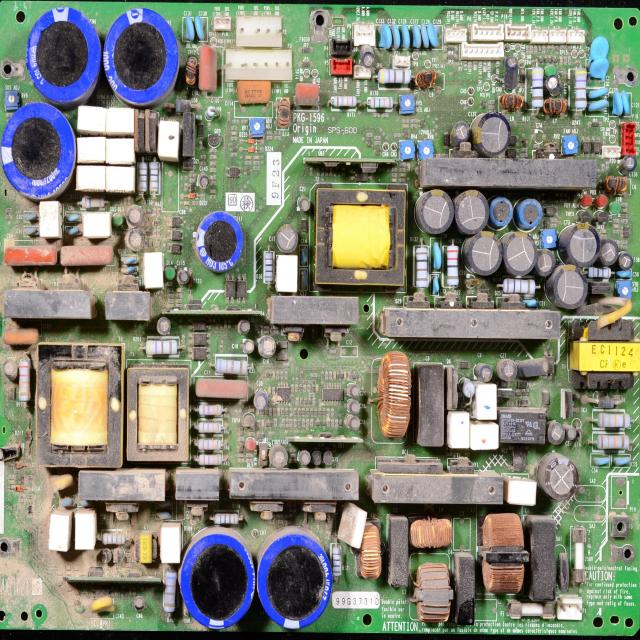Capacitor Jumper: (543, 453, 578, 504), (453, 188, 489, 235), (468, 230, 501, 276), (416, 192, 454, 231), (473, 116, 508, 158), (5, 245, 59, 272), (502, 234, 536, 274), (564, 224, 596, 266), (60, 244, 116, 268), (555, 264, 587, 305), (198, 44, 222, 98), (236, 79, 271, 112), (2, 328, 37, 350), (599, 239, 622, 270), (292, 83, 320, 108), (522, 356, 549, 378), (534, 248, 555, 276), (125, 226, 147, 252), (276, 226, 297, 253), (588, 56, 609, 80), (49, 472, 72, 493), (505, 57, 521, 86), (549, 420, 566, 447), (91, 597, 116, 615), (431, 238, 444, 272), (498, 360, 518, 381), (589, 37, 609, 58), (269, 447, 288, 469), (426, 21, 441, 48), (193, 15, 208, 42), (258, 337, 277, 358), (126, 207, 144, 229), (419, 24, 433, 52), (359, 43, 376, 66), (378, 22, 392, 49), (588, 98, 609, 115), (182, 14, 195, 41), (587, 86, 611, 100), (546, 76, 564, 94), (476, 363, 493, 382), (2, 358, 18, 378), (390, 23, 402, 49), (157, 317, 173, 336), (120, 264, 143, 277), (401, 23, 412, 50), (613, 91, 624, 118), (24, 224, 42, 240), (591, 455, 613, 468), (453, 121, 468, 140), (177, 268, 191, 288), (620, 156, 636, 173), (121, 252, 138, 268), (412, 24, 422, 50), (622, 90, 631, 118), (620, 251, 634, 269), (63, 226, 82, 239), (255, 393, 268, 411), (197, 173, 210, 191), (616, 268, 634, 281), (59, 494, 75, 508), (240, 316, 251, 336), (348, 413, 359, 433), (613, 455, 631, 467), (431, 272, 440, 296), (298, 449, 312, 464), (348, 397, 361, 413), (298, 195, 309, 213), (64, 211, 79, 224), (133, 594, 145, 610), (22, 212, 39, 223), (165, 265, 176, 280), (523, 297, 538, 307), (348, 384, 360, 396), (76, 499, 89, 509), (568, 424, 576, 439)
Resistor Jumper: (194, 378, 248, 402), (588, 411, 633, 431), (444, 242, 461, 288), (592, 430, 631, 450), (163, 568, 177, 617), (502, 276, 538, 295), (144, 337, 178, 357), (529, 67, 545, 108), (573, 68, 588, 110), (17, 356, 30, 402), (215, 356, 252, 372), (378, 68, 412, 84), (196, 415, 223, 434), (149, 160, 162, 197), (196, 452, 226, 468), (330, 544, 344, 578), (196, 434, 222, 452), (459, 376, 478, 399), (137, 161, 149, 196), (80, 195, 107, 210), (100, 533, 125, 547), (196, 403, 224, 415), (588, 266, 612, 280), (214, 513, 239, 526), (332, 94, 357, 107), (368, 96, 394, 108), (205, 106, 216, 118)
